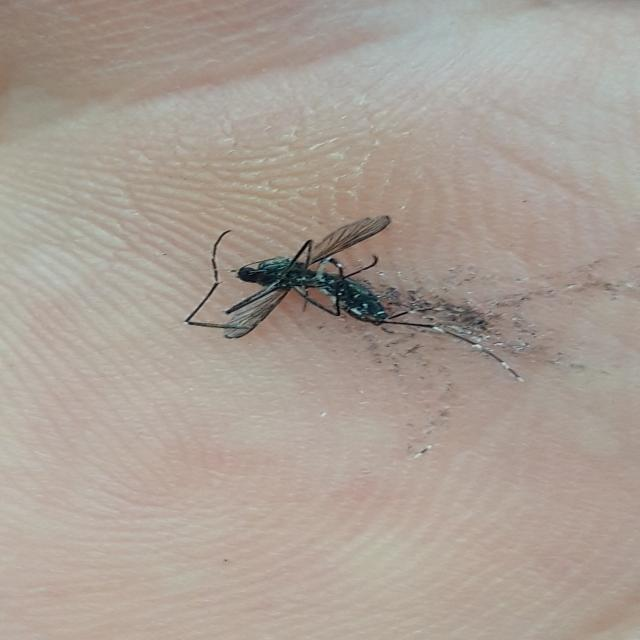albopictus: (166, 209, 497, 366)
